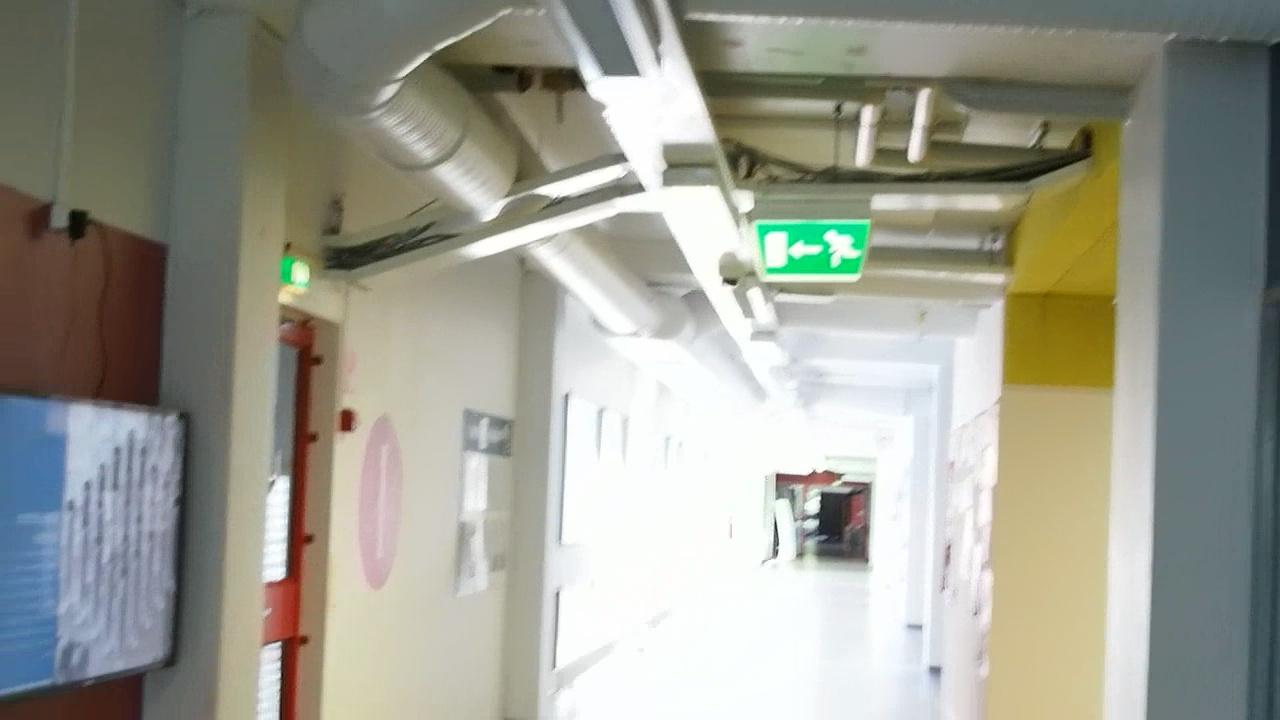exit: (762, 217, 874, 282)
